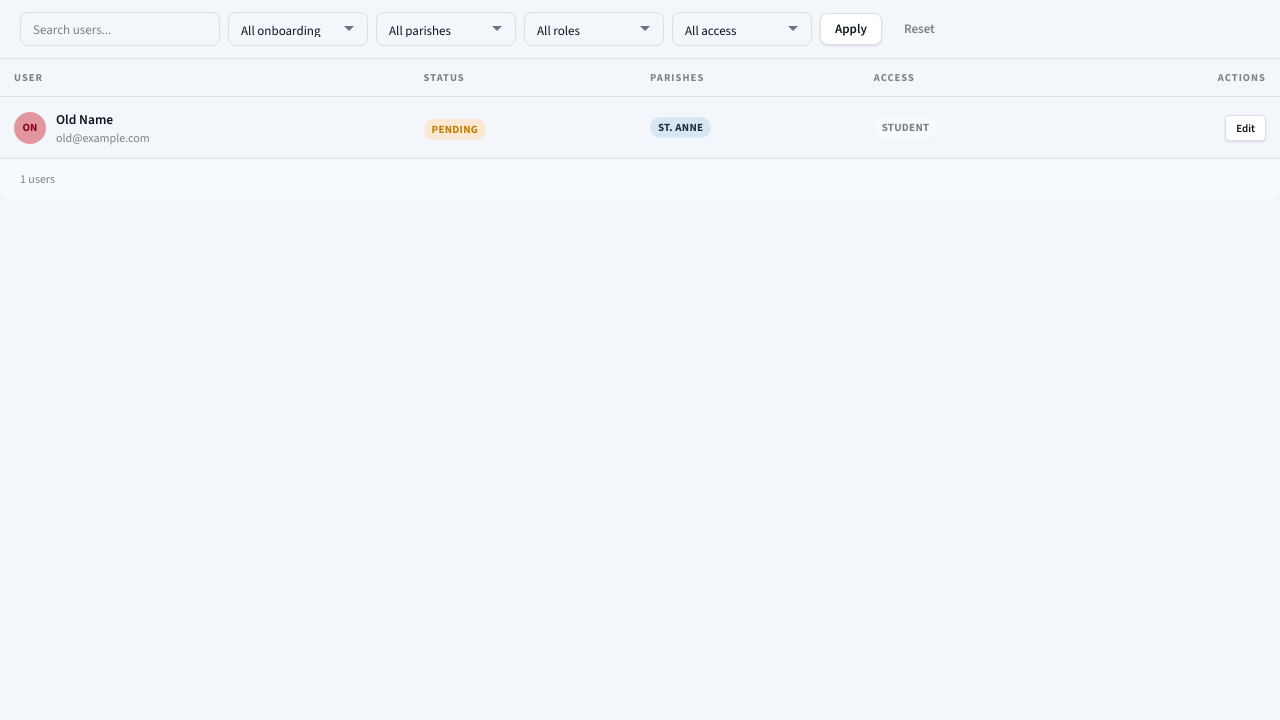
AdminUserDirectoryManager › reloads user data when a later access update fails after an earlier one succeeds
Click the button "Edit" at (1246, 128), box [1225, 116, 1266, 142]
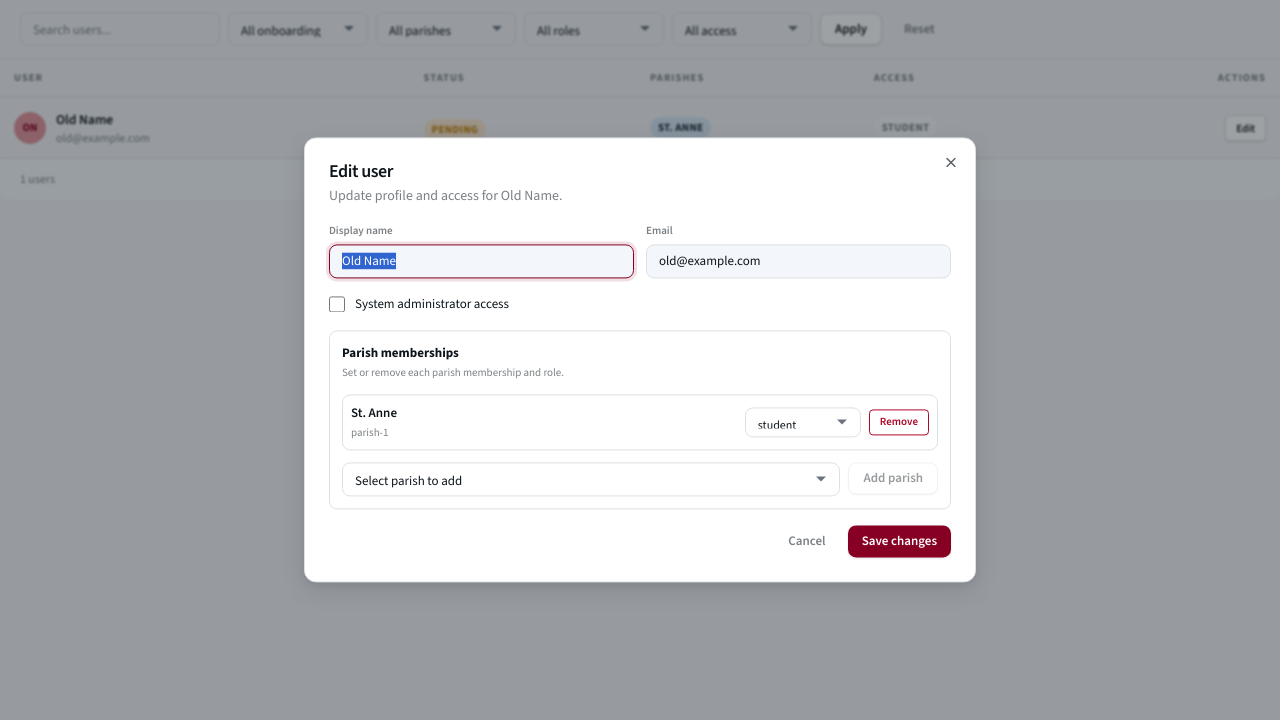
Click the button "Remove" at (899, 422), box [869, 409, 929, 435]
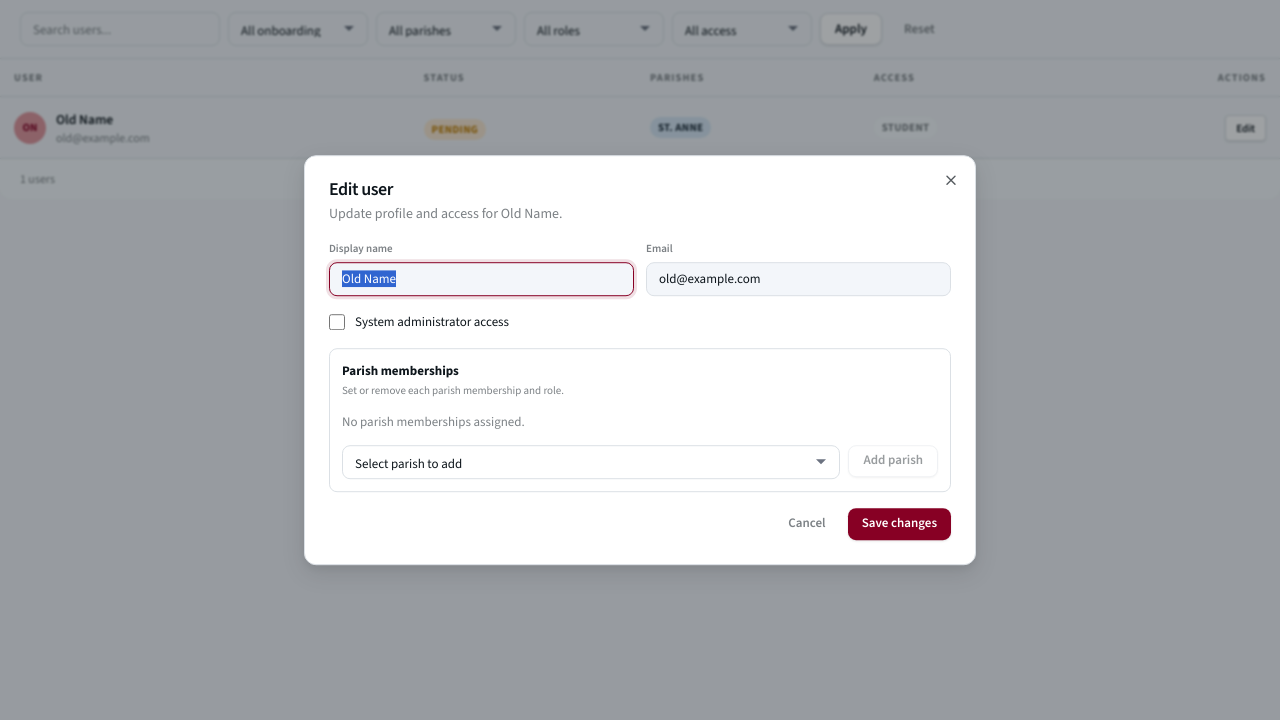
Select "St. Mark" in the dropdown showing "Select parish to add" at (591, 462), box [342, 445, 840, 479]
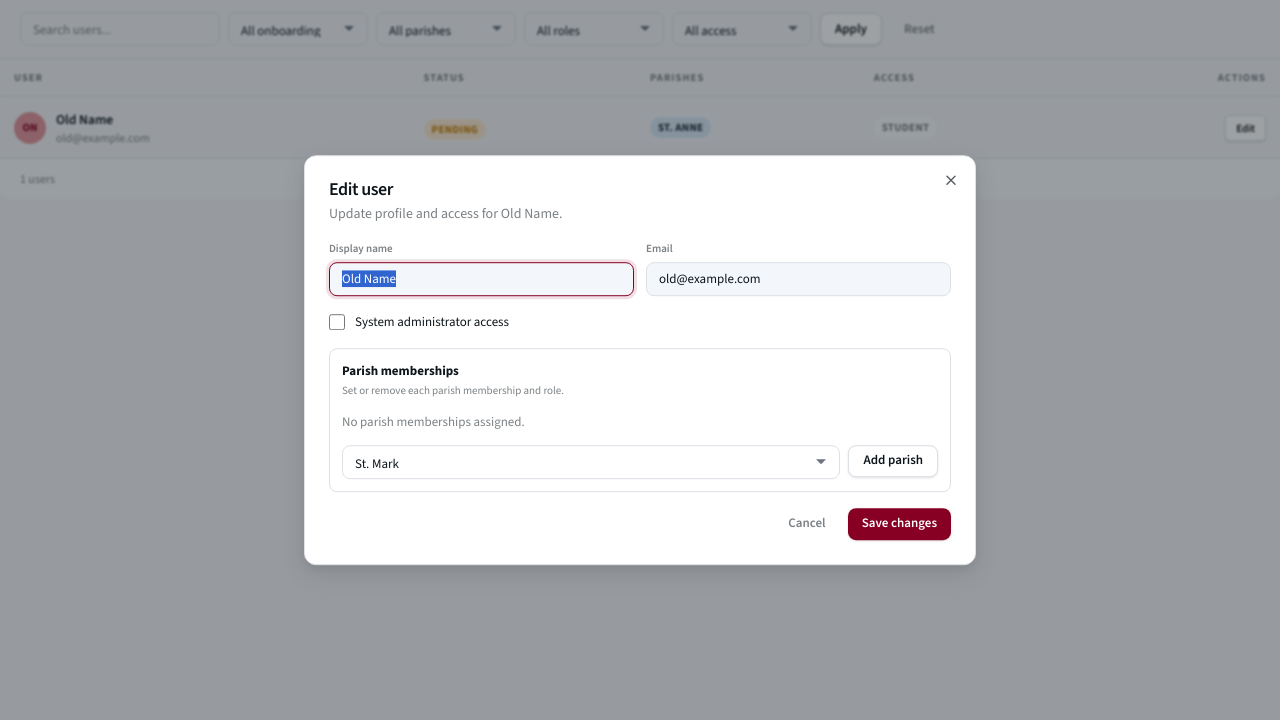
Click the button "Add parish" at (893, 461), box [848, 445, 938, 477]
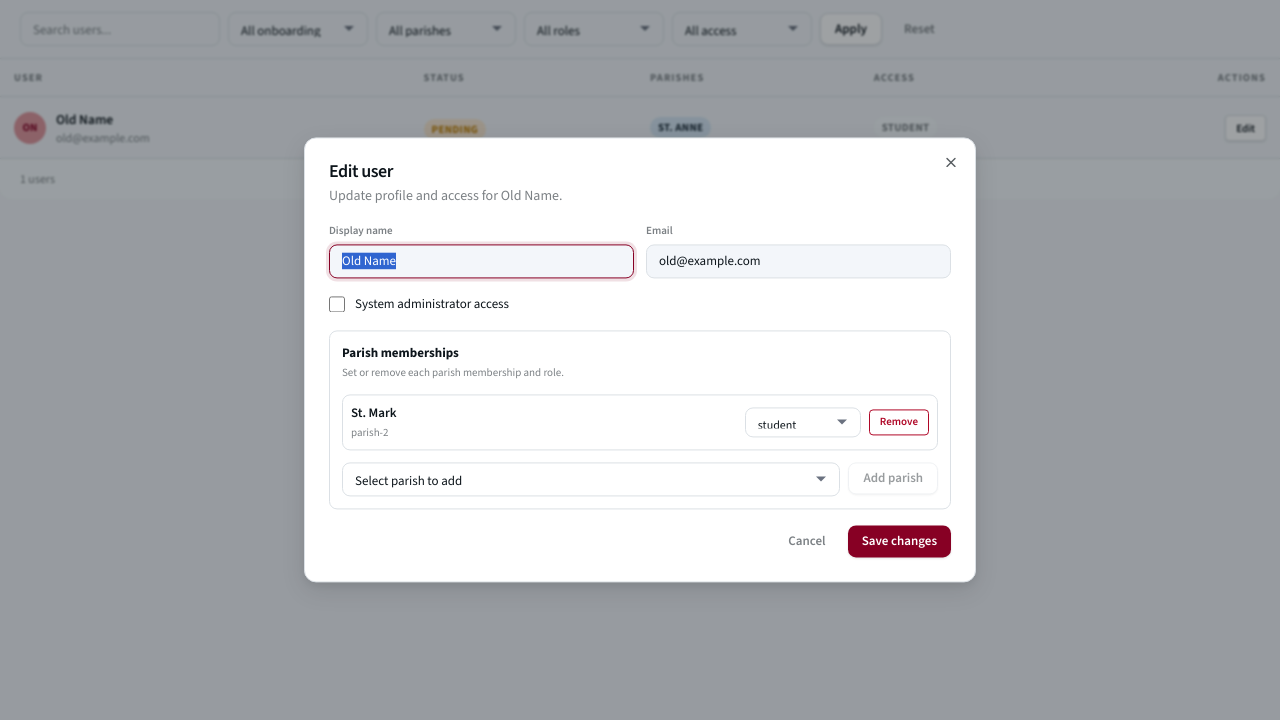
Click the button "Save changes" at (899, 542), box [848, 526, 951, 558]
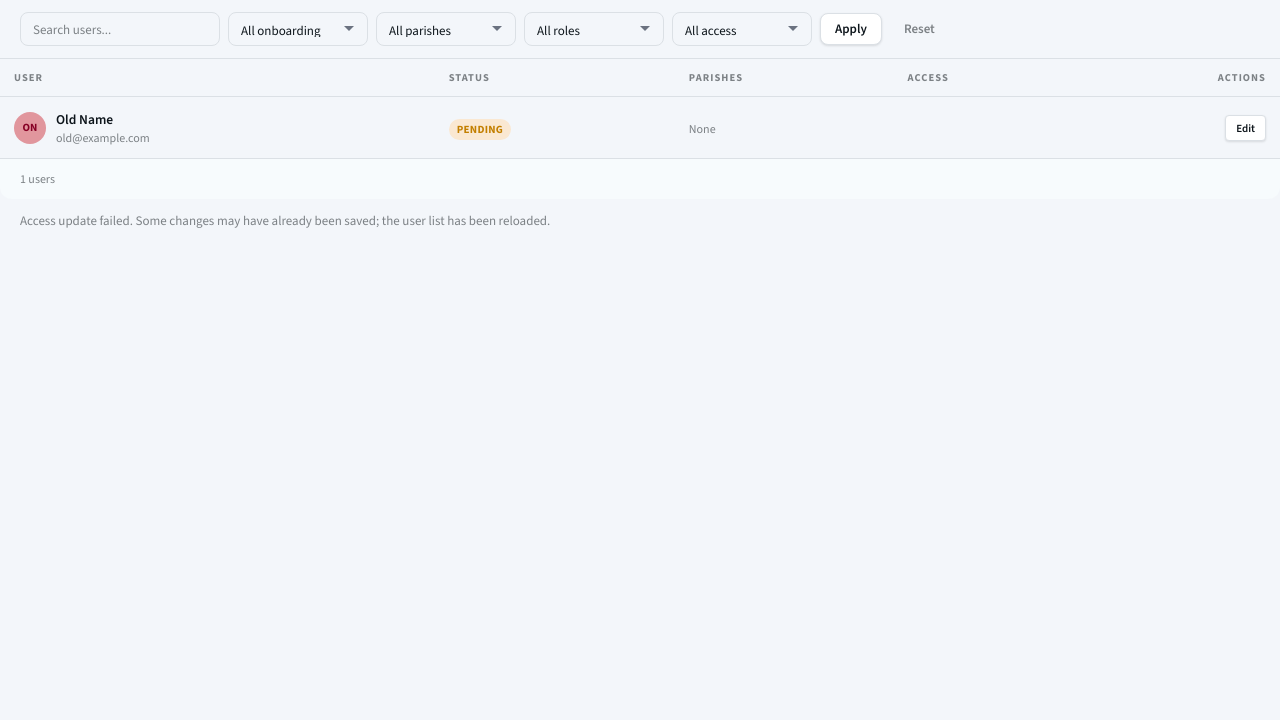
Now the text "None" is shown, box [689, 121, 716, 137]
Now the dialog is gone
Now the text "Access update failed. Some changes may have already been saved; the user list has been reloaded." is shown, box [20, 212, 550, 229]
